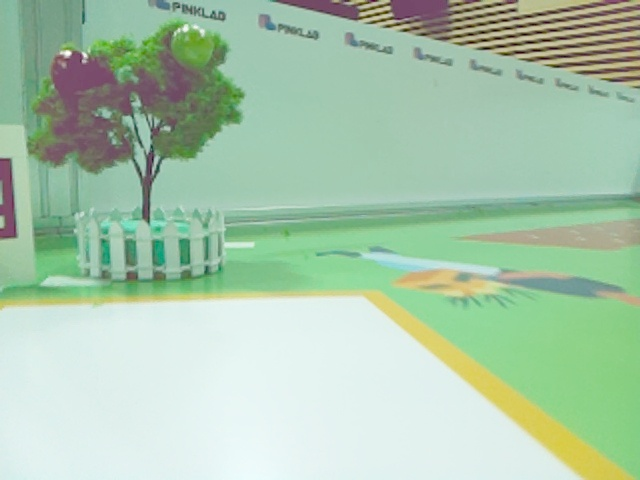apple: (41, 46, 102, 98)
